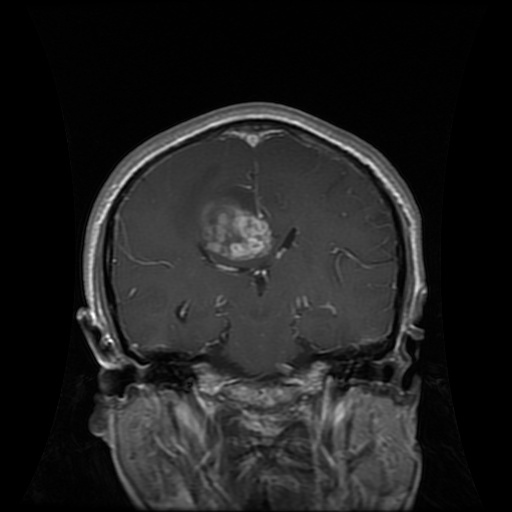glioma: (189, 186, 275, 296)
